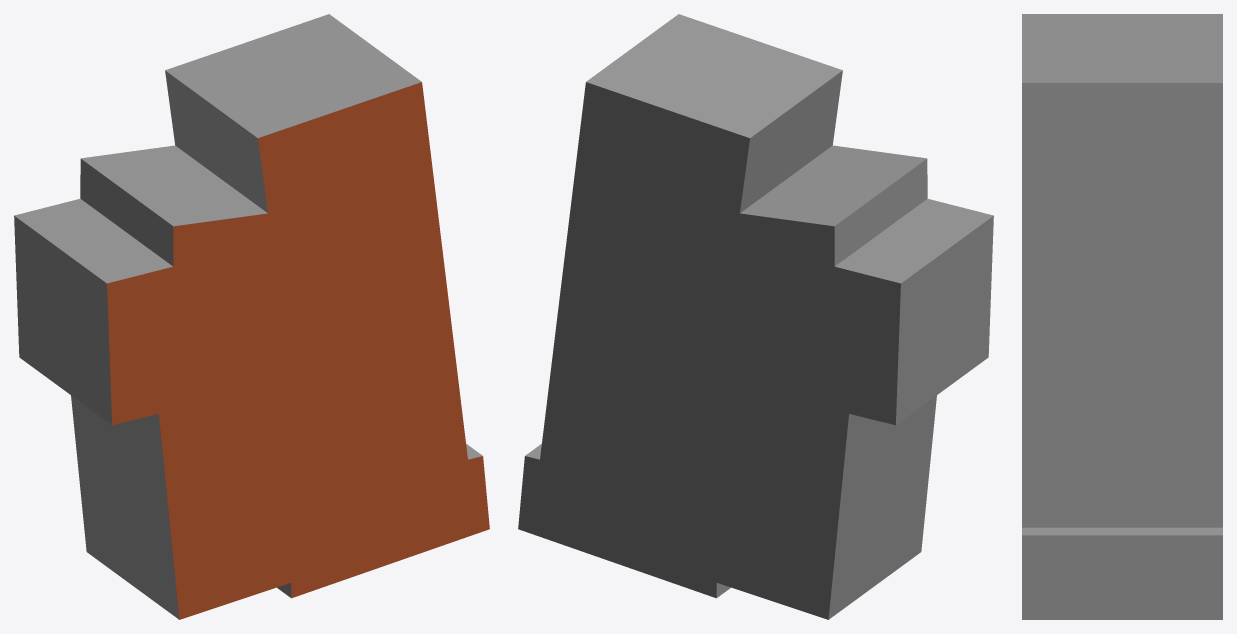
File: construction_1419_assumed_A_Casa_h6m.obj
3 views of the same model, side by side, from view 1: azimuth 30°, elevation 25°; view 2: azimuth 150°, elevation 25°; view 3: azimuth 270°, elevation 25° (orthographic). The views are drawn at different scales.
Parts seen in each view (by area): view 1: construction_1419_assumed_A_Casa; view 2: construction_1419_assumed_A_Casa; view 3: construction_1419_assumed_A_Casa.
Part boxes in pixels (x1,y1,x2,y2): construction_1419_assumed_A_Casa: (14, 14, 489, 619); construction_1419_assumed_A_Casa: (518, 14, 993, 619); construction_1419_assumed_A_Casa: (1022, 14, 1222, 619).
Size of the model in its own units: 14.28 by 17.27 by 6.
